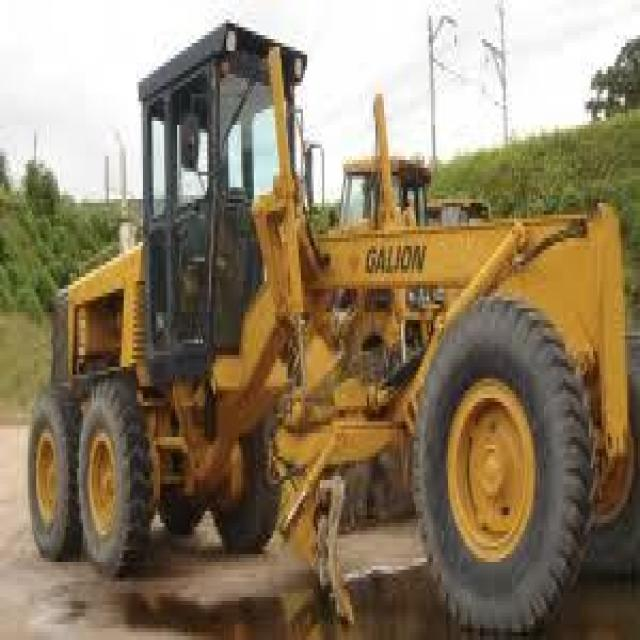Grader: (15, 8, 634, 620)
